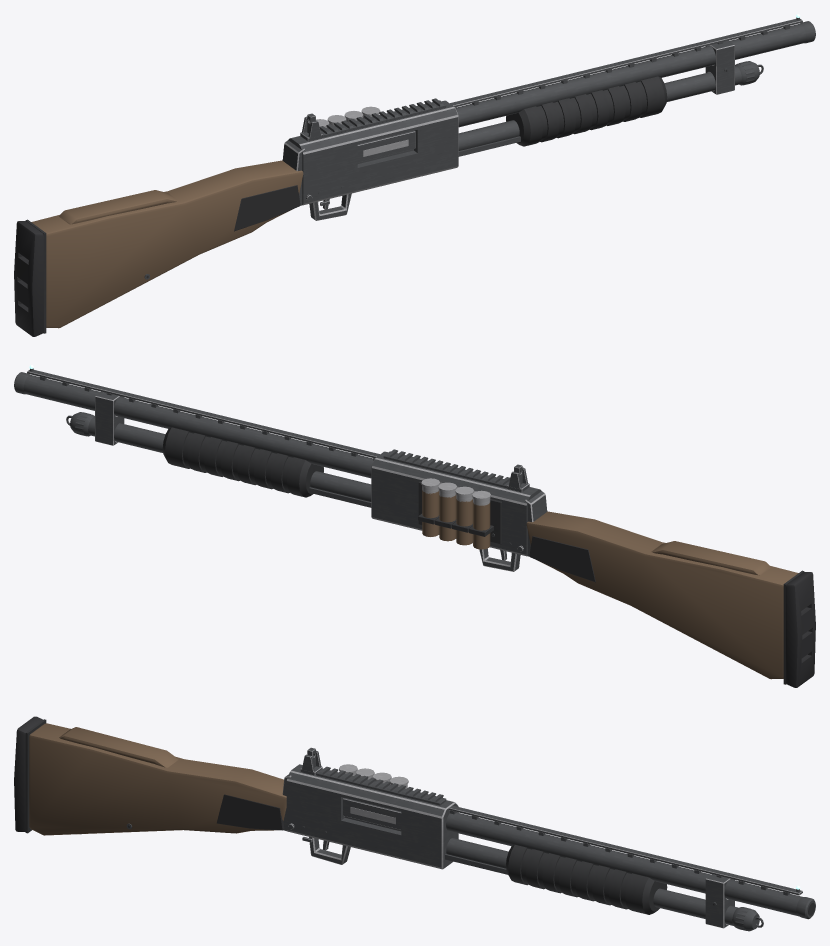
File: w_shotgun.glb
3 renders of one model, top to bottom at view 1: azimuth 30°, elevation 25°; view 2: azimuth 150°, elevation 25°; view 3: azimuth 330°, elevation 25°, orthographic.
Visible parts, largest first — view 1: W_shotgun; view 2: W_shotgun; view 3: W_shotgun.
Part boxes in pixels (bbox=[...]): W_shotgun: bbox=[14, 14, 815, 336]; W_shotgun: bbox=[14, 365, 815, 687]; W_shotgun: bbox=[14, 716, 815, 931].
Bounding box in the file's own units: 1.05 × 0.1854 × 0.0697.
Materials: 6 (3 with a texture image).
